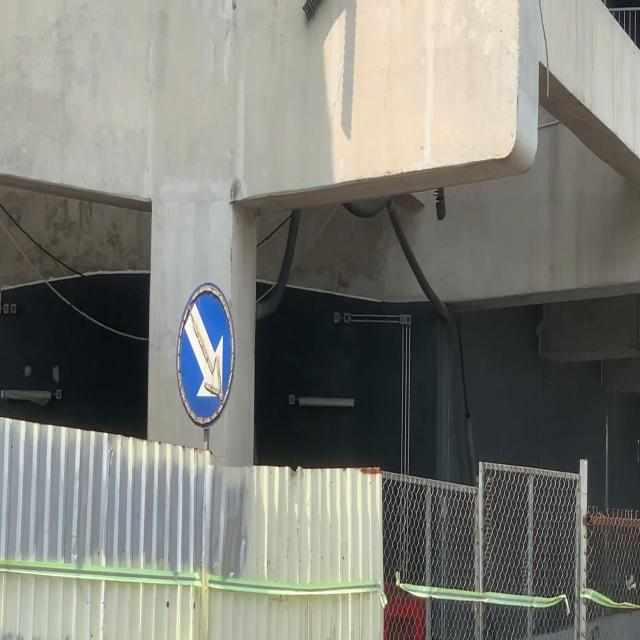Hieu lenh: (174, 278, 239, 435)
